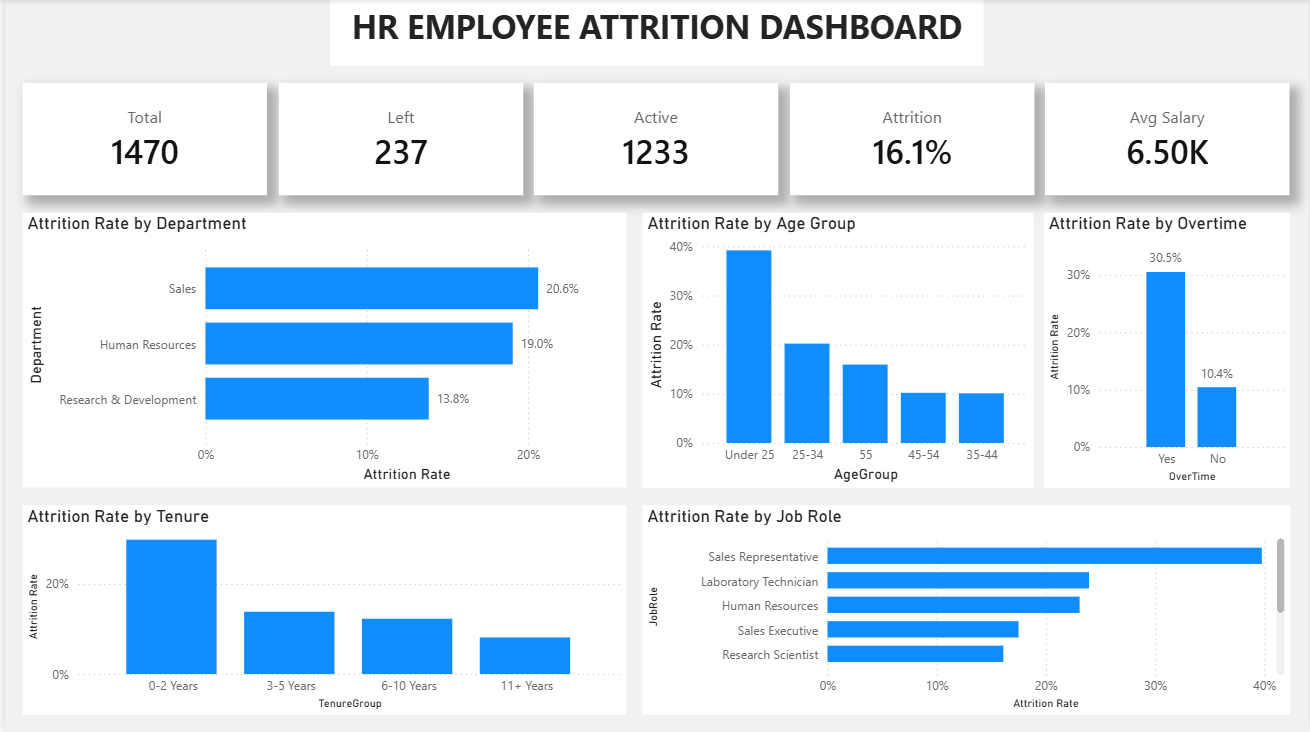

The page's visual inventory and layout, read from the dashboard file:
{"tool":"powerbi","page":{"name":"HR Executive Dashboard","canvas":[1280,720],"ordinal":0},"visuals":[{"type":"textbox","box":[318.5,0,641.9,65.9],"z":0},{"type":"cardVisual","fields":{"Data":["HR_Employees.Total Employees"]},"box":[17.1,81.9,240,110],"z":1000},{"type":"cardVisual","fields":{"Data":["HR_Employees.Employee Left"]},"box":[268.2,81.9,240,110],"z":2000},{"type":"cardVisual","fields":{"Data":["HR_Employees.Active Employees"]},"box":[519.3,81.9,240,110],"z":3000},{"type":"cardVisual","fields":{"Data":["HR_Employees.Attrition Rate"]},"box":[770.4,81.9,240,110],"z":4000},{"type":"cardVisual","fields":{"Data":["HR_Employees.Average Monthly Income"]},"box":[1021.4,81.9,240,110],"z":5000},{"type":"barChart","title":"Attrition Rate by Department","fields":{"Category":["HR_Employees.Department"],"Y":["HR_Employees.Attrition Rate"]},"box":[17.1,210,592.9,270],"z":6000},{"type":"barChart","title":"Attrition Rate by Job Role","fields":{"Category":["HR_Employees.JobRole"],"Y":["HR_Employees.Attrition Rate"]},"box":[625.7,497.1,635.7,205.7],"z":7000},{"type":"columnChart","title":"Attrition Rate by Overtime","fields":{"Category":["HR_Employees.OverTime"],"Y":["HR_Employees.Attrition Rate"]},"box":[1020,210,241.4,270],"z":8000},{"type":"columnChart","title":"Attrition Rate by Age Group","fields":{"Category":["HR_Employees.AgeGroup"],"Y":["HR_Employees.Attrition Rate"]},"box":[625.7,210,384.3,270],"z":9000},{"type":"columnChart","title":"Attrition Rate by Tenure","fields":{"Category":["HR_Employees.TenureGroup"],"Y":["HR_Employees.Attrition Rate"]},"box":[17.1,497.1,592.9,205.7],"z":10000}]}

Visuals, with their boxes in screenshot pixels (x1, y1, x2, y2), scaled from the page's 1280x720 canvas onto the 1310x732 screenshot:
textbox: {"x1": 326, "y1": 0, "x2": 983, "y2": 67}
cardVisual - HR_Employees.Total Employees: {"x1": 18, "y1": 83, "x2": 263, "y2": 195}
cardVisual - HR_Employees.Employee Left: {"x1": 274, "y1": 83, "x2": 520, "y2": 195}
cardVisual - HR_Employees.Active Employees: {"x1": 531, "y1": 83, "x2": 777, "y2": 195}
cardVisual - HR_Employees.Attrition Rate: {"x1": 788, "y1": 83, "x2": 1034, "y2": 195}
cardVisual - HR_Employees.Average Monthly Income: {"x1": 1045, "y1": 83, "x2": 1291, "y2": 195}
"Attrition Rate by Department" barChart: {"x1": 18, "y1": 214, "x2": 624, "y2": 488}
"Attrition Rate by Job Role" barChart: {"x1": 640, "y1": 505, "x2": 1291, "y2": 715}
"Attrition Rate by Overtime" columnChart: {"x1": 1044, "y1": 214, "x2": 1291, "y2": 488}
"Attrition Rate by Age Group" columnChart: {"x1": 640, "y1": 214, "x2": 1034, "y2": 488}
"Attrition Rate by Tenure" columnChart: {"x1": 18, "y1": 505, "x2": 624, "y2": 715}
